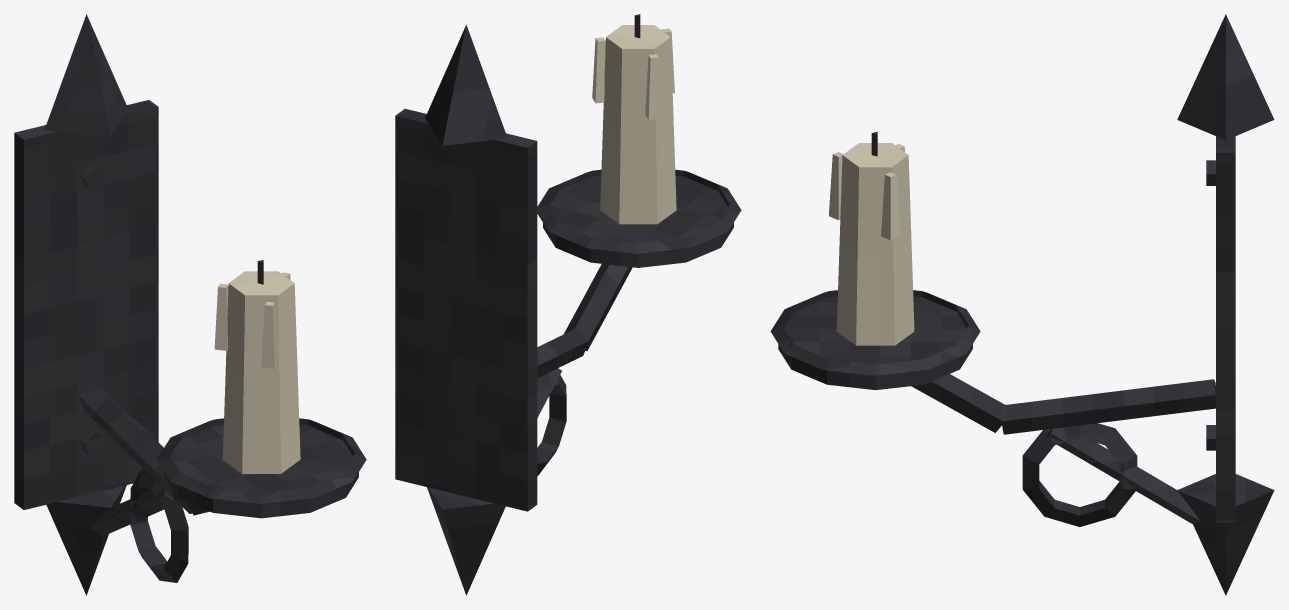
The model's file is wall_sconce_off.obj.
3 renders of one model, left to right at view 1: azimuth 30°, elevation 25°; view 2: azimuth 150°, elevation 25°; view 3: azimuth 270°, elevation 25°, orthographic.
Parts seen in each view (by area): view 1: wall_sconce; view 2: wall_sconce; view 3: wall_sconce.
Part boxes in pixels (<box>): wall_sconce: <box>14,14,366,595</box>; wall_sconce: <box>395,14,741,595</box>; wall_sconce: <box>770,14,1274,595</box>.
Bounding box in the file's own units: 0.216 × 0.66 × 0.518.
